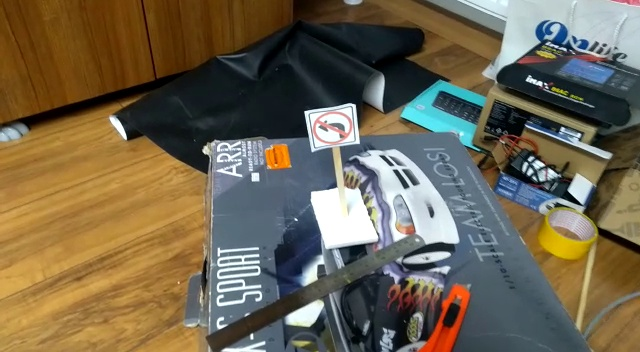sola_donulmez: (311, 106, 356, 147)
